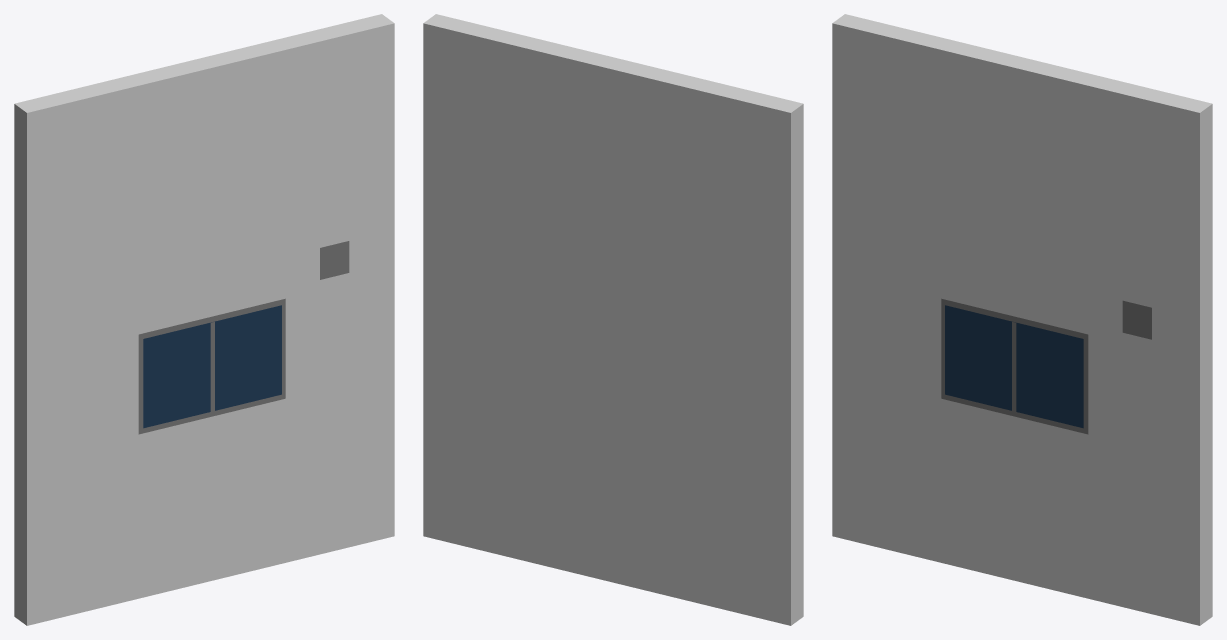
3 renders of one model, left to right at view 1: azimuth 30°, elevation 25°; view 2: azimuth 150°, elevation 25°; view 3: azimuth 330°, elevation 25°, orthographic.
Visible parts, largest first — view 1: a2004/0/base-w1; view 2: a2004/0/base-w1; view 3: a2004/0/base-w1.
Boxes of the visible parts, x1,y1,x2,y2 form: a2004/0/base-w1: (14, 14, 394, 625); a2004/0/base-w1: (423, 14, 803, 625); a2004/0/base-w1: (832, 14, 1212, 625).
Size of the model in its own units: 3 by 4 by 0.208.
